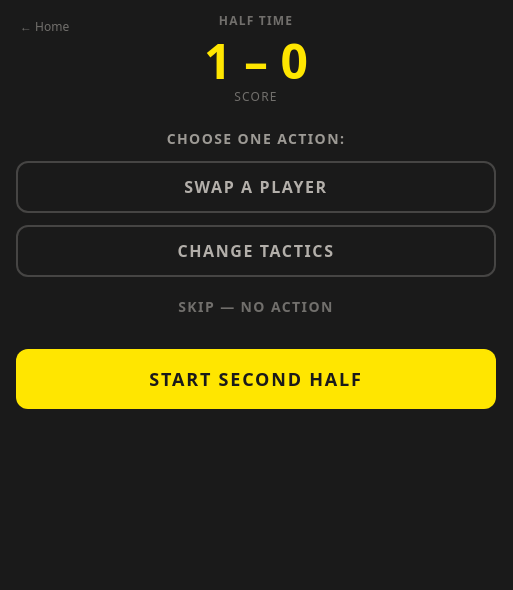
Test: HalftimeScreen › shows "action used" notice after action is taken
The image size is (513, 590).
Click the button with test id "action-tactic-btn".
click(256, 251)  # box [16,225,496,277]
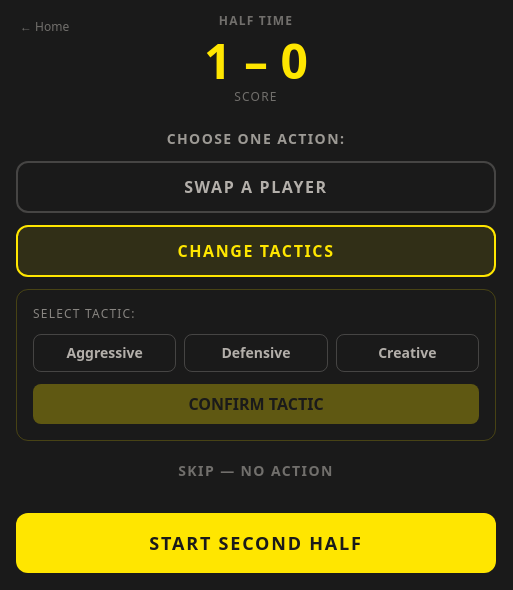
Click the button with test id "tactic-defensive".
click(256, 353)  # box [184,334,328,372]
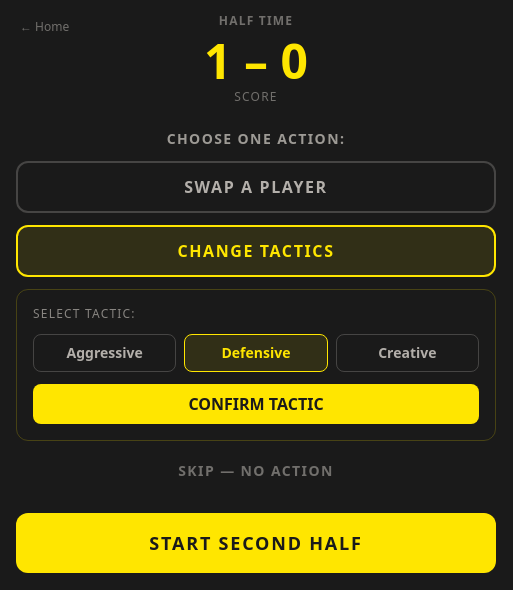
Click the button with test id "confirm-tactic-btn".
click(256, 404)  # box [33,384,479,424]
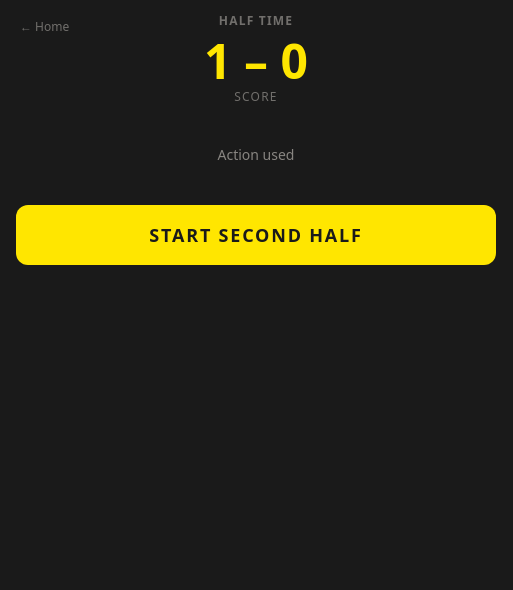
Now the text "Action used" is shown, box [218,145,294,164]
